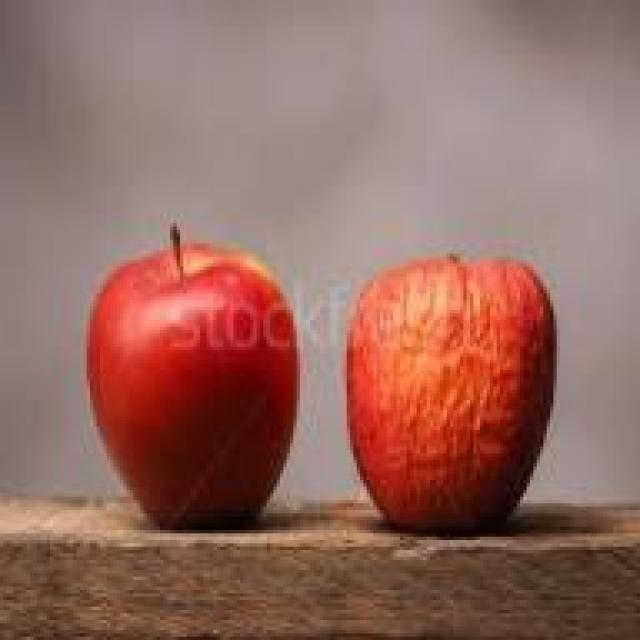apple: (73, 233, 317, 527), (350, 256, 547, 516)
